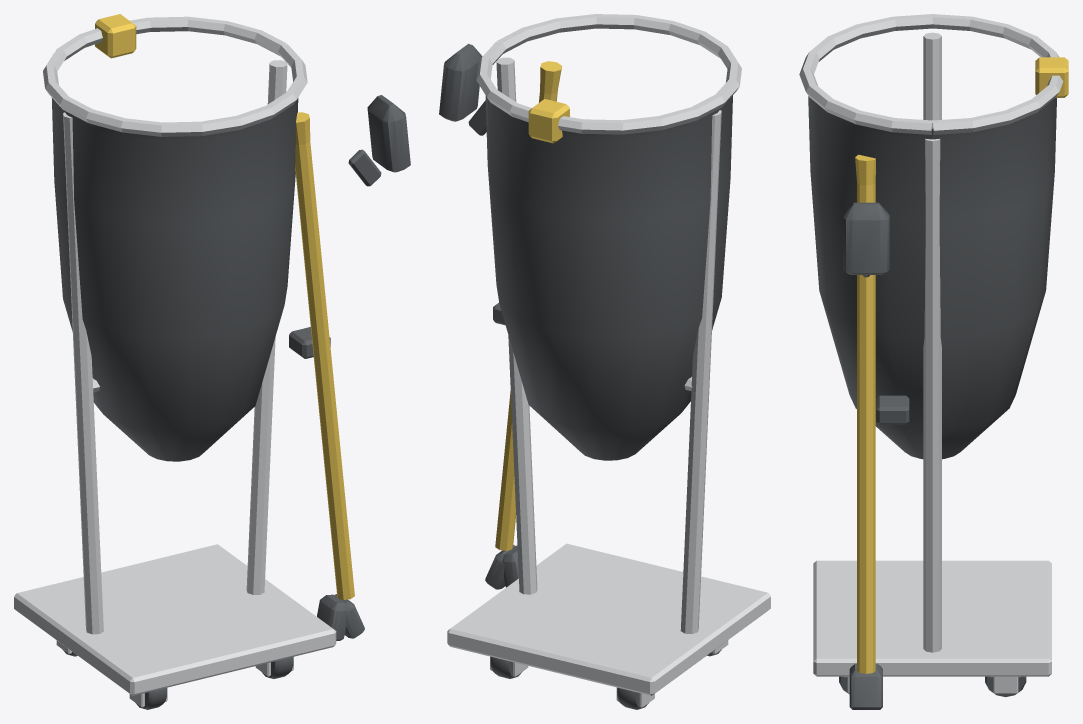
Rendered from laundrette-and-cleaning-litter-picker-and-hoop-a967334b__25579.glb.
3 renders of one model, left to right at view 1: azimuth 30°, elevation 25°; view 2: azimuth 150°, elevation 25°; view 3: azimuth 270°, elevation 25°, orthographic.
Visible parts, largest first — view 1: litter-picker-and-hoop; view 2: litter-picker-and-hoop; view 3: litter-picker-and-hoop.
Boxes of the visible parts, x1,y1,x2,y2 form: litter-picker-and-hoop: (14, 14, 410, 709); litter-picker-and-hoop: (439, 14, 770, 709); litter-picker-and-hoop: (799, 14, 1068, 709).
Size of the model in its own units: 0.5403 by 1 by 0.406.
